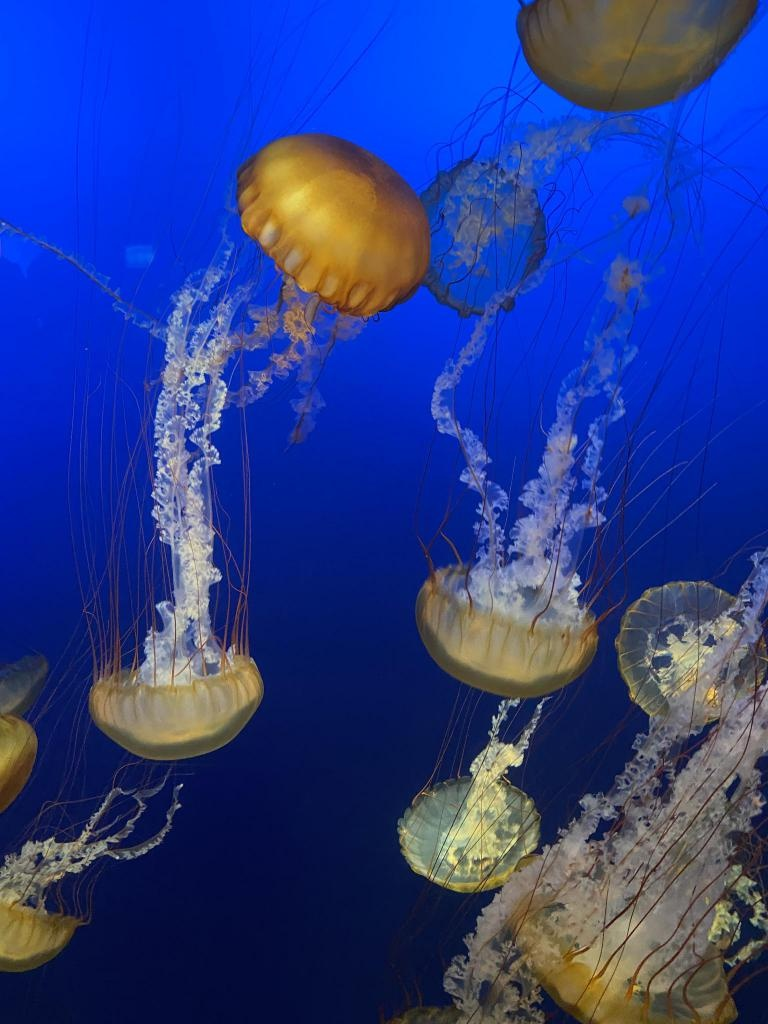jellyfish: (508, 848, 754, 1008), (235, 134, 433, 328), (519, 0, 752, 119), (414, 564, 600, 692), (416, 154, 548, 320), (84, 635, 264, 753), (620, 582, 764, 724), (397, 768, 555, 886), (1, 887, 93, 971), (1, 714, 43, 820), (1, 644, 51, 710)
